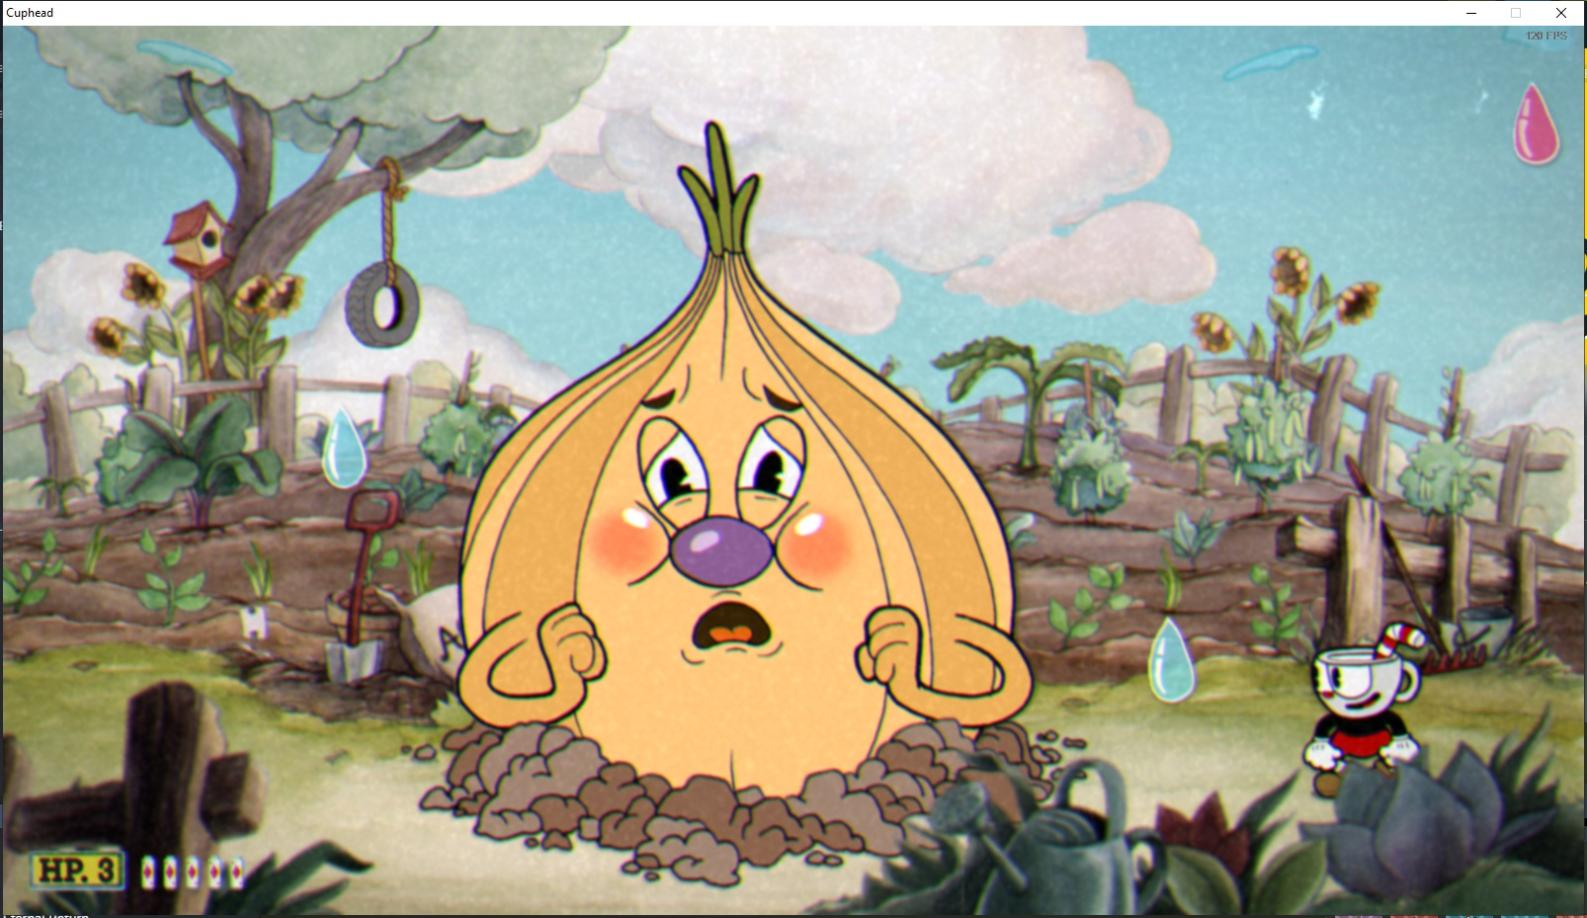hp3: (92, 854, 124, 890)
onion_boss: (440, 103, 1048, 843)
pink_rain: (1498, 76, 1571, 171)
player: (1283, 608, 1439, 802)
rain: (1141, 614, 1204, 709), (313, 400, 374, 492)
